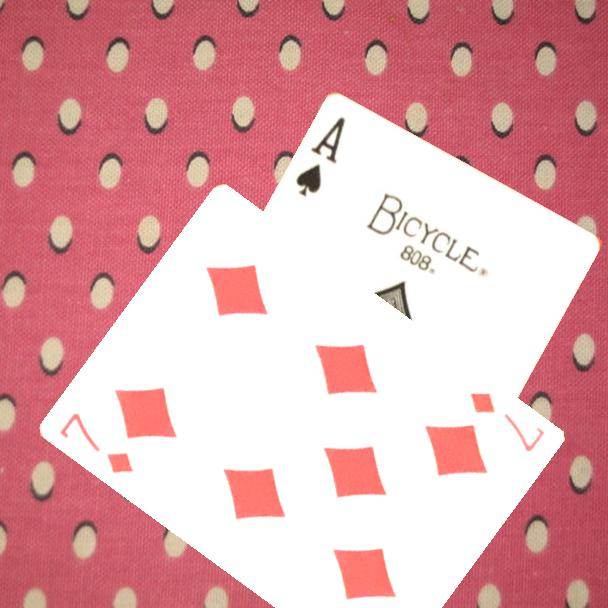d07: (56, 409, 137, 477), (467, 388, 549, 455)
s01: (291, 112, 349, 199)
